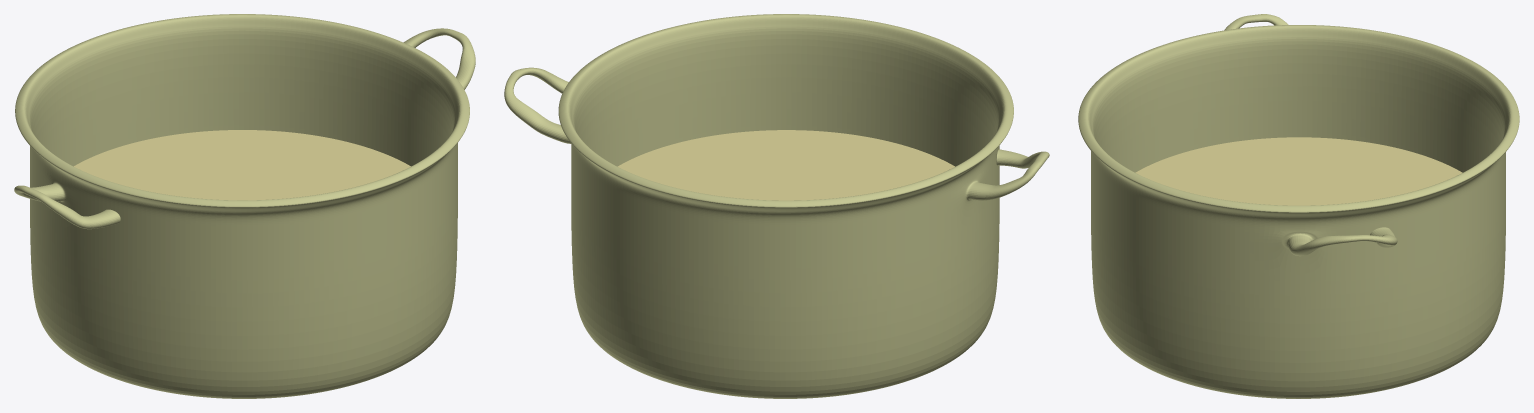
File: Pot_with_milktea_Visual.fbx
3 views of the same model, side by side, from view 1: azimuth 30°, elevation 25°; view 2: azimuth 150°, elevation 25°; view 3: azimuth 270°, elevation 25° (orthographic). The views are drawn at different scales.
Visible parts, largest first — view 1: 锅, 奶茶; view 2: 锅, 奶茶; view 3: 锅, 奶茶.
Boxes of the visible parts, x1,y1,x2,y2 form: 锅: (14,14,475,398); 奶茶: (74,130,410,200); 锅: (504,14,1049,398); 奶茶: (617,130,954,200); 锅: (1078,14,1519,398); 奶茶: (1135,137,1462,205).
Size of the model in its own units: 78.17 by 32.88 by 63.35.
